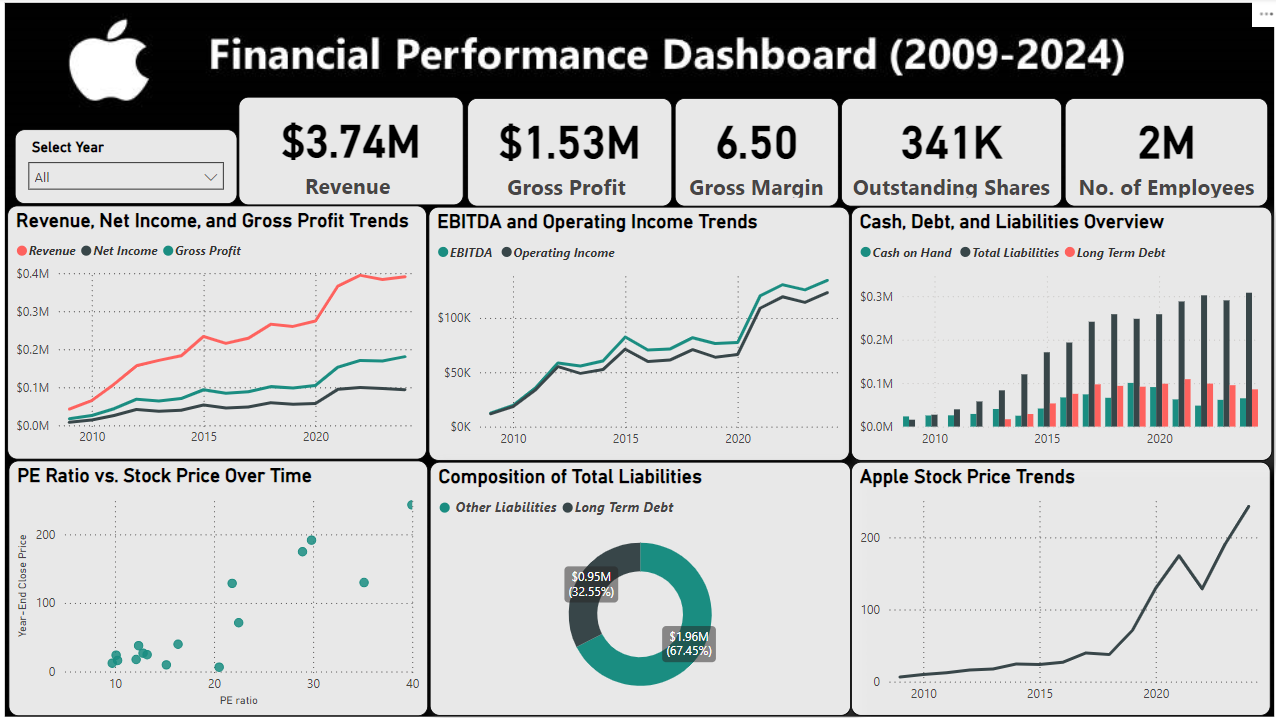

The page's visual inventory and layout, read from the dashboard file:
{"tool":"powerbi","page":{"name":"Page 1","canvas":[1280,720],"ordinal":0},"visuals":[{"type":"image","box":[0,0,1280.3,720.4],"z":500},{"type":"lineChart","title":"Revenue, Net Income, and Gross Profit Trends","fields":{"Category":["Apple finance.year"],"Y":["Sum(Apple finance.Revenue (millions))","Sum(Apple finance.Net Income (millions))","Sum(Apple finance.Gross Profit (millions))"]},"box":[11.2,206.5,418,253],"z":1000},{"type":"lineChart","title":"EBITDA and Operating Income Trends","fields":{"Category":["Apple finance.year"],"Y":["Sum(Apple finance.EBITDA (millions))","Sum(Apple finance.Operating Income (millions))"]},"box":[430.4,207.7,419.2,253],"z":2000},{"type":"clusteredColumnChart","title":"Cash, Debt, and Liabilities Overview","fields":{"Category":["Apple finance.year"],"Y":["Sum(Apple finance.Cash on Hand (millions))","Sum(Apple finance.Total Liabilities (millions))","Sum(Apple finance.Long Term Debt (millions))"]},"box":[850.9,207.7,419.2,253],"z":3000},{"type":"donutChart","title":"Composition of Total Liabilities","fields":{"Y":["Sum(Apple finance.Other Liabilities)","Sum(Apple finance.Long Term Debt (millions))"]},"box":[431.7,461.5,419.2,252.5],"z":4000},{"type":"lineChart","title":"Apple Stock Price Trends","fields":{"Category":["Apple finance.year"],"Y":["Sum(Apple finance.Year Close Price)"]},"box":[850.9,461.5,418,253],"z":5000},{"type":"card","fields":{"Values":["Sum(Apple finance.Revenue (millions))"]},"box":[241.3,98.3,223.9,108.2],"z":6000},{"type":"card","fields":{"Values":["Sum(Apple finance.Gross Profit (millions))"]},"box":[469,99.5,204,108.2],"z":7000},{"type":"card","fields":{"Values":["Sum(Apple finance.Shares Outstanding)"]},"box":[840.9,99.5,220.2,108.2],"z":8000},{"type":"card","fields":{"Values":["Sum(Apple finance.Gross Margin)"]},"box":[675.5,99.5,163,108.2],"z":9000},{"type":"slicer","fields":{"Values":["Apple finance.year"]},"box":[18.7,130.6,221.4,74.6],"z":10000},{"type":"card","fields":{"Values":["Sum(Apple finance.Employees)"]},"box":[1063.6,99.5,202.8,108.2],"z":11000},{"type":"scatterChart","title":"PE Ratio vs. Stock Price Over Time","fields":{"X":["Sum(Apple finance.PE ratio)"],"Y":["Sum(Apple finance.Year Close Price)"],"Category":["Apple finance.year"]},"box":[12.4,460.3,418,254],"z":12000}]}

Visuals, with their boxes in screenshot pixels (x1, y1, x2, y2), scaled from the page's 1280x720 canvas onto the 1276x718 screenshot:
image: x1=0, y1=0, x2=1275, y2=717
"Revenue, Net Income, and Gross Profit Trends" lineChart: x1=11, y1=206, x2=428, y2=458
"EBITDA and Operating Income Trends" lineChart: x1=429, y1=207, x2=847, y2=459
"Cash, Debt, and Liabilities Overview" clusteredColumnChart: x1=848, y1=207, x2=1266, y2=459
"Composition of Total Liabilities" donutChart: x1=430, y1=460, x2=848, y2=712
"Apple Stock Price Trends" lineChart: x1=848, y1=460, x2=1265, y2=713
card - Sum(Apple finance.Revenue (millions)): x1=241, y1=98, x2=464, y2=206
card - Sum(Apple finance.Gross Profit (millions)): x1=468, y1=99, x2=671, y2=207
card - Sum(Apple finance.Shares Outstanding): x1=838, y1=99, x2=1058, y2=207
card - Sum(Apple finance.Gross Margin): x1=673, y1=99, x2=836, y2=207
slicer - Apple finance.year: x1=19, y1=130, x2=239, y2=205
card - Sum(Apple finance.Employees): x1=1060, y1=99, x2=1262, y2=207
"PE Ratio vs. Stock Price Over Time" scatterChart: x1=12, y1=459, x2=429, y2=712
